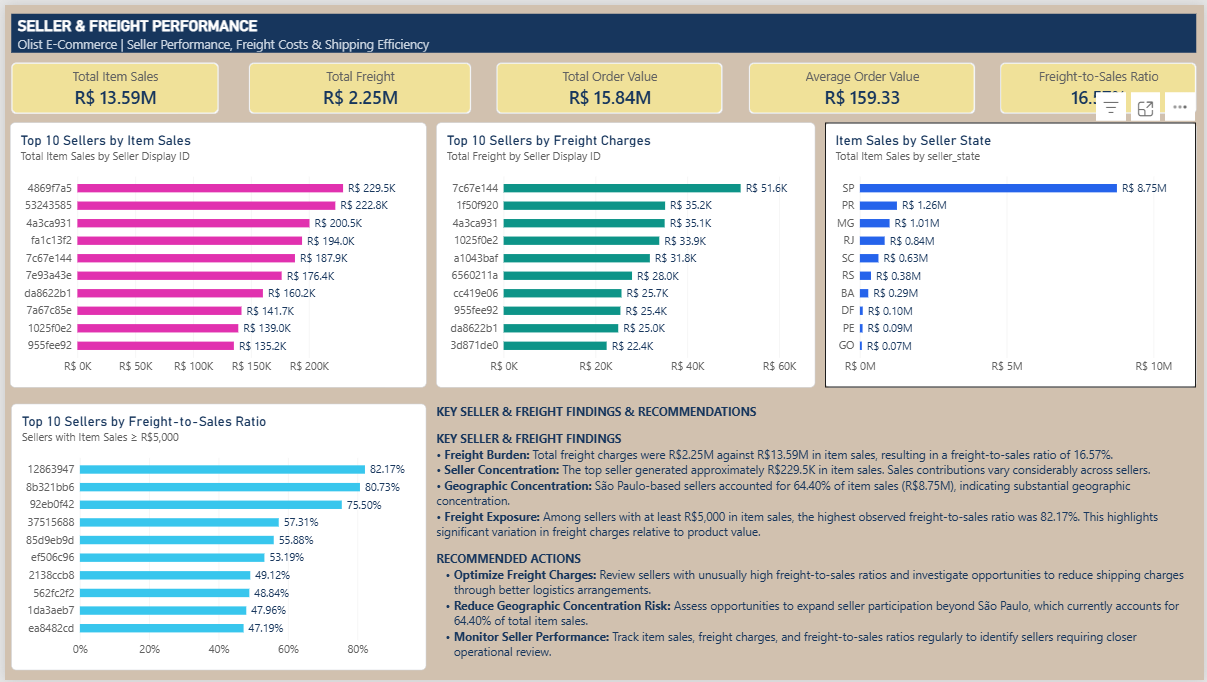

The page's visual inventory and layout, read from the dashboard file:
{"tool":"powerbi","page":{"name":"03 \\| Seller & Freight","canvas":[1920,1080],"ordinal":3},"visuals":[{"type":"textbox","title":"SELLER & FREIGHT PERFORMANCE","box":[10,14,1896,62],"z":0},{"type":"cardVisual","fields":{"Data":["Dim_Date.Total Freight"]},"box":[390,92,356,82],"z":2000},{"type":"cardVisual","fields":{"Data":["Dim_Date.Total Order Value"]},"box":[786,92,362,82],"z":3000},{"type":"cardVisual","fields":{"Data":["Dim_Date.Average Order Value"]},"box":[1190,92,362,82],"z":4000},{"type":"clusteredBarChart","title":"\tTop 10 Sellers by Item Sales","fields":{"Category":["mart fact_order_items.Seller Display ID"],"Y":["Dim_Date.Total Item Sales"]},"box":[8,188,666,424],"z":5000},{"type":"clusteredBarChart","title":"Top 10 Sellers by Freight Charges","fields":{"Category":["mart fact_order_items.Seller Display ID"],"Y":["Dim_Date.Total Freight"]},"box":[690,188,606,424],"z":6000},{"type":"cardVisual","fields":{"Data":["Delivery_Status.Freight-to-Sales Ratio"]},"box":[1592,92,314,82],"z":7000},{"type":"clusteredBarChart","title":"\tTop 10 Sellers by Freight-to-Sales Ratio","fields":{"Category":["mart fact_order_items.Seller Display ID"],"Y":["Delivery_Status.Eligible Seller Freight Ratio"]},"box":[10,638,664,426],"z":8000},{"type":"clusteredBarChart","title":"\tItem Sales by Seller State","fields":{"Category":["mart fact_order_items.seller_state"],"Y":["Dim_Date.Total Item Sales"]},"box":[1312,188,594,424],"z":9000},{"type":"textbox","box":[690,638,1216,426],"z":11000},{"type":"cardVisual","fields":{"Data":["Dim_Date.Total Item Sales"]},"box":[10,92,332,82],"z":11001}]}

Visuals, with their boxes in screenshot pixels (x1, y1, x2, y2), scaled from the page's 1920x1080 canvas onto the 1207x682 screenshot:
"SELLER & FREIGHT PERFORMANCE" textbox: [6,9,1198,48]
cardVisual - Dim_Date.Total Freight: [245,58,469,110]
cardVisual - Dim_Date.Total Order Value: [494,58,722,110]
cardVisual - Dim_Date.Average Order Value: [748,58,976,110]
"	Top 10 Sellers by Item Sales" clusteredBarChart: [5,119,424,386]
"Top 10 Sellers by Freight Charges" clusteredBarChart: [434,119,815,386]
cardVisual - Delivery_Status.Freight-to-Sales Ratio: [1001,58,1198,110]
"	Top 10 Sellers by Freight-to-Sales Ratio" clusteredBarChart: [6,403,424,672]
"	Item Sales by Seller State" clusteredBarChart: [825,119,1198,386]
textbox: [434,403,1198,672]
cardVisual - Dim_Date.Total Item Sales: [6,58,215,110]
